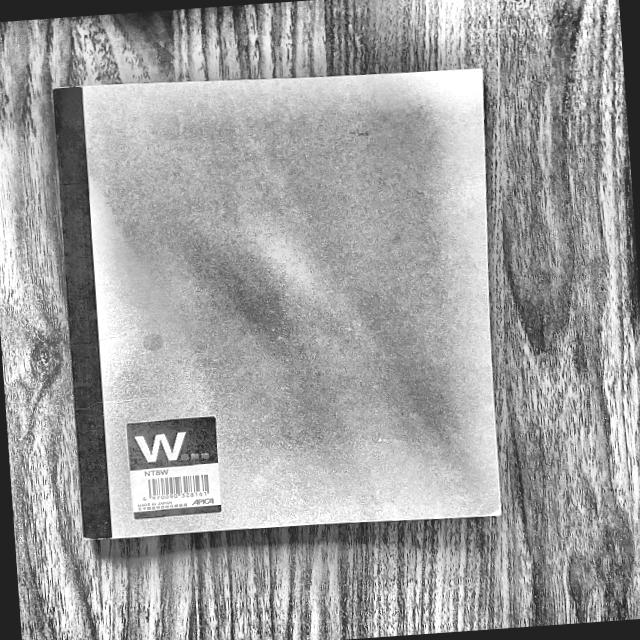Notebook: (25, 41, 548, 584)
